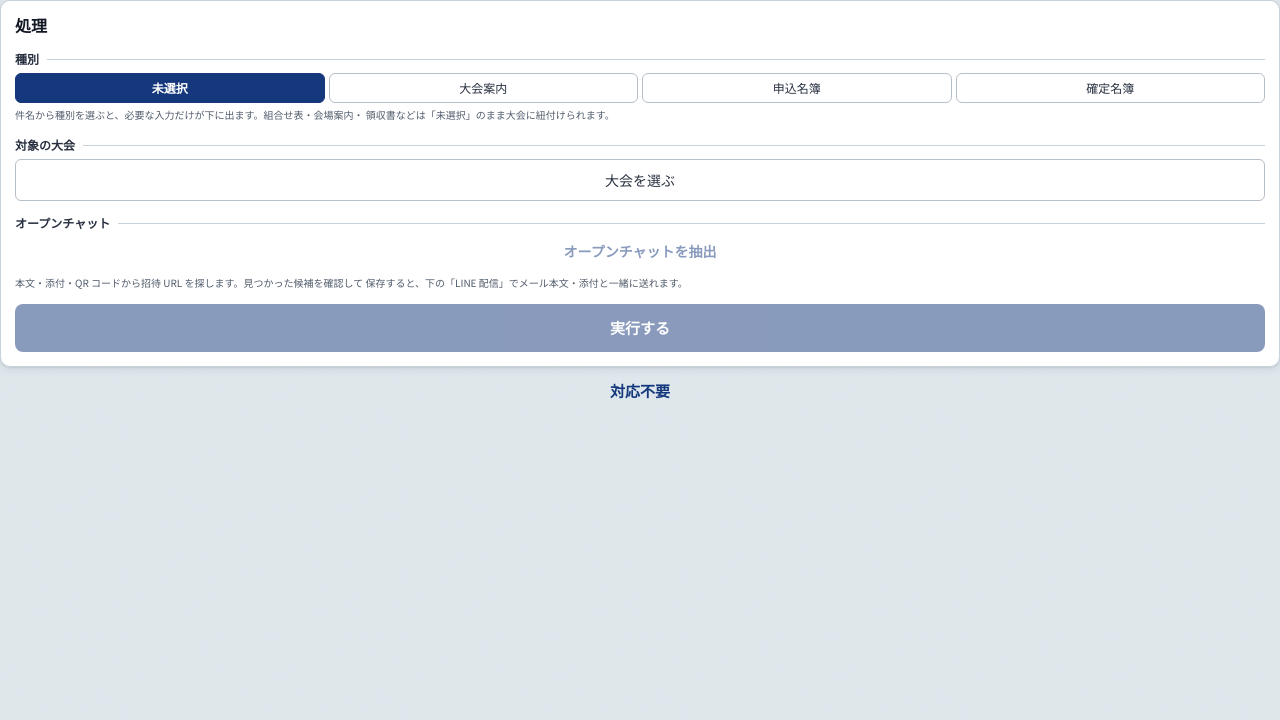
MailProcessForm — 会計へ振込連絡 › 送信済みのグループはチェックが既定 OFF で送信日時が出る（AC-41）
This screenshot has width=1280, height=720.
What coordinates should you click on to do the following:
click the button "確定名簿"
I would click on:
 (1110, 88)
Its box is [956,73,1265,103].
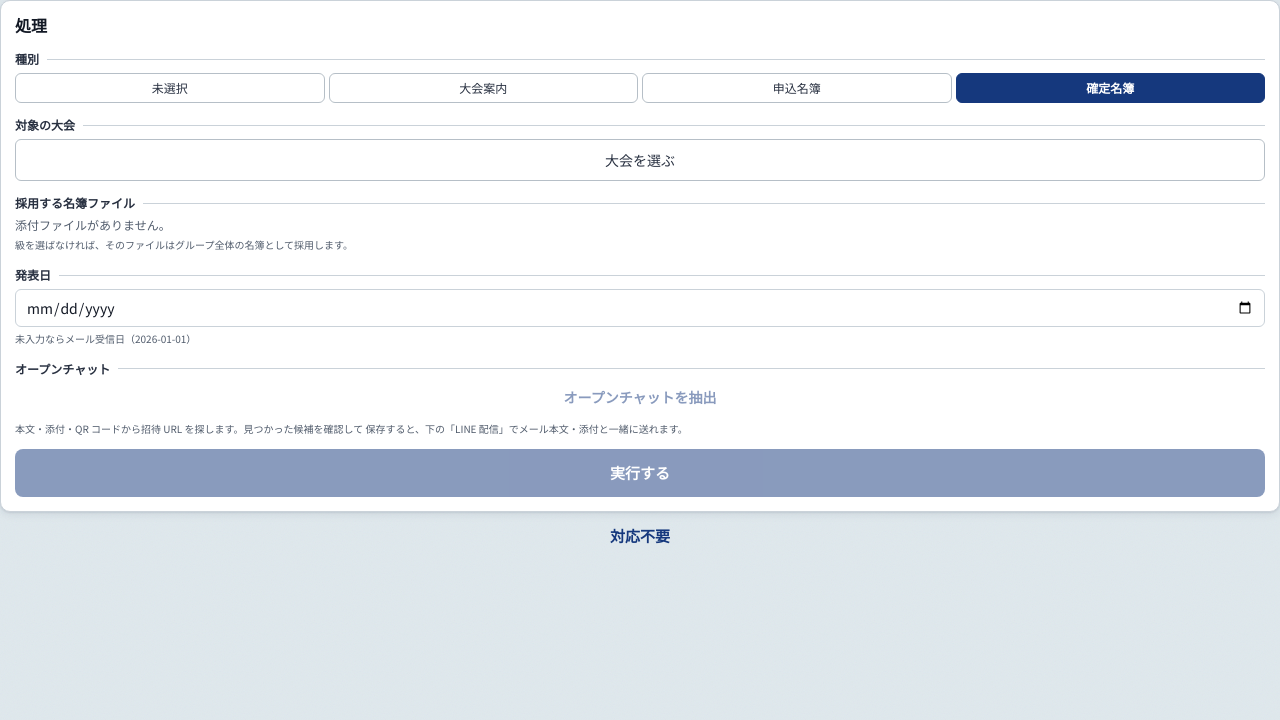
What coordinates should you click on to do the following:
click the button "大会を選ぶ"
I would click on:
 (640, 160)
Its box is [15,139,1265,181].
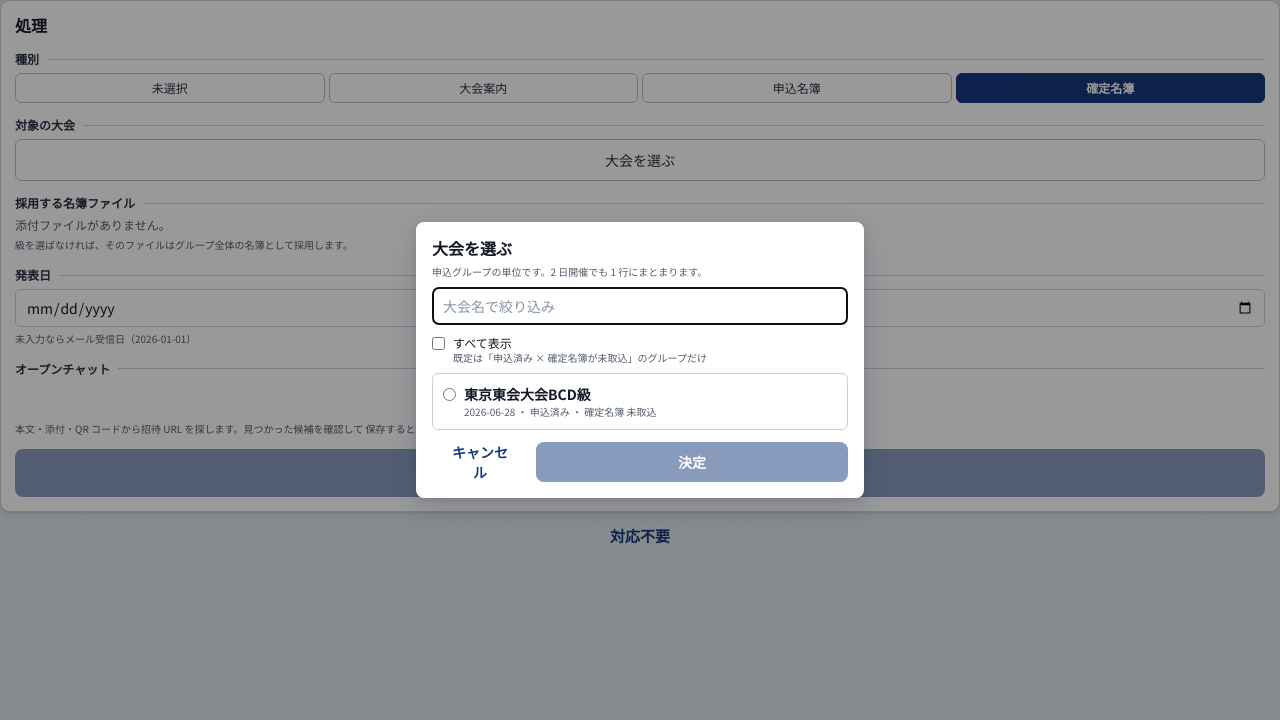
What coordinates should you click on to do the following:
click the radio button
I would click on:
 (450, 394)
Its box is [443,388,456,401].
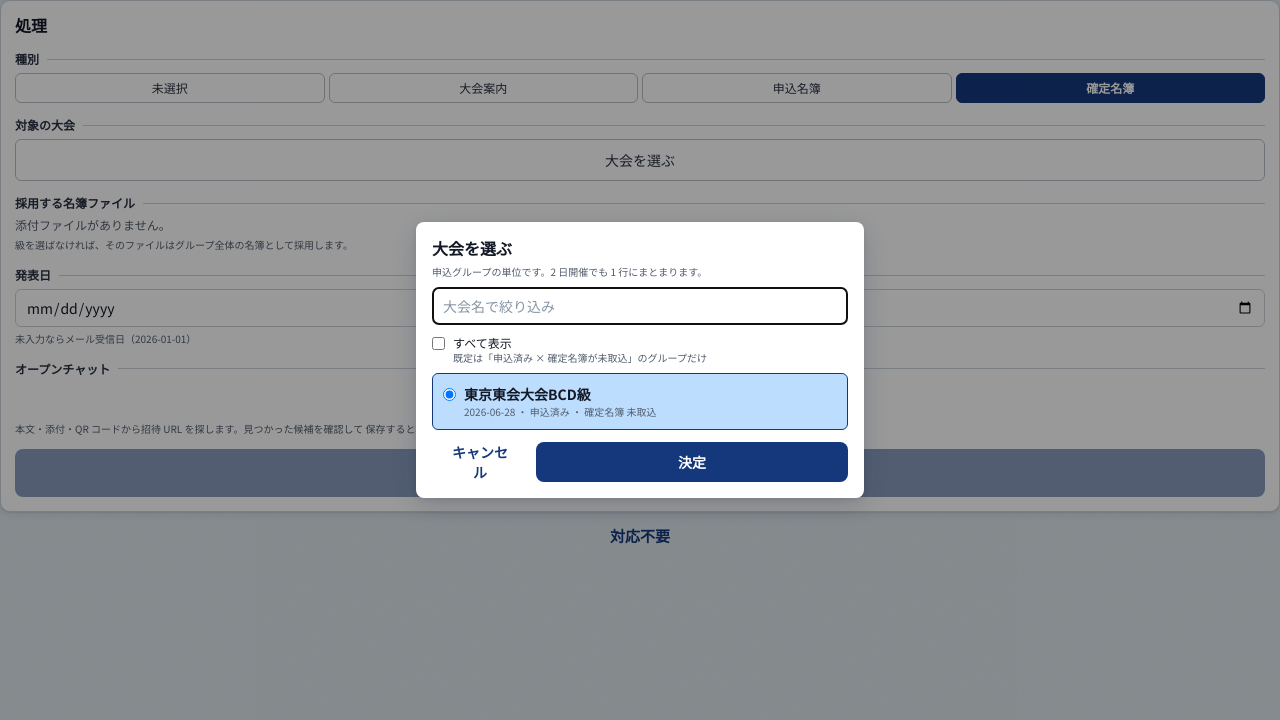
What coordinates should you click on to do the following:
click the button "決定"
I would click on:
 (692, 462)
Its box is [536,442,848,482].
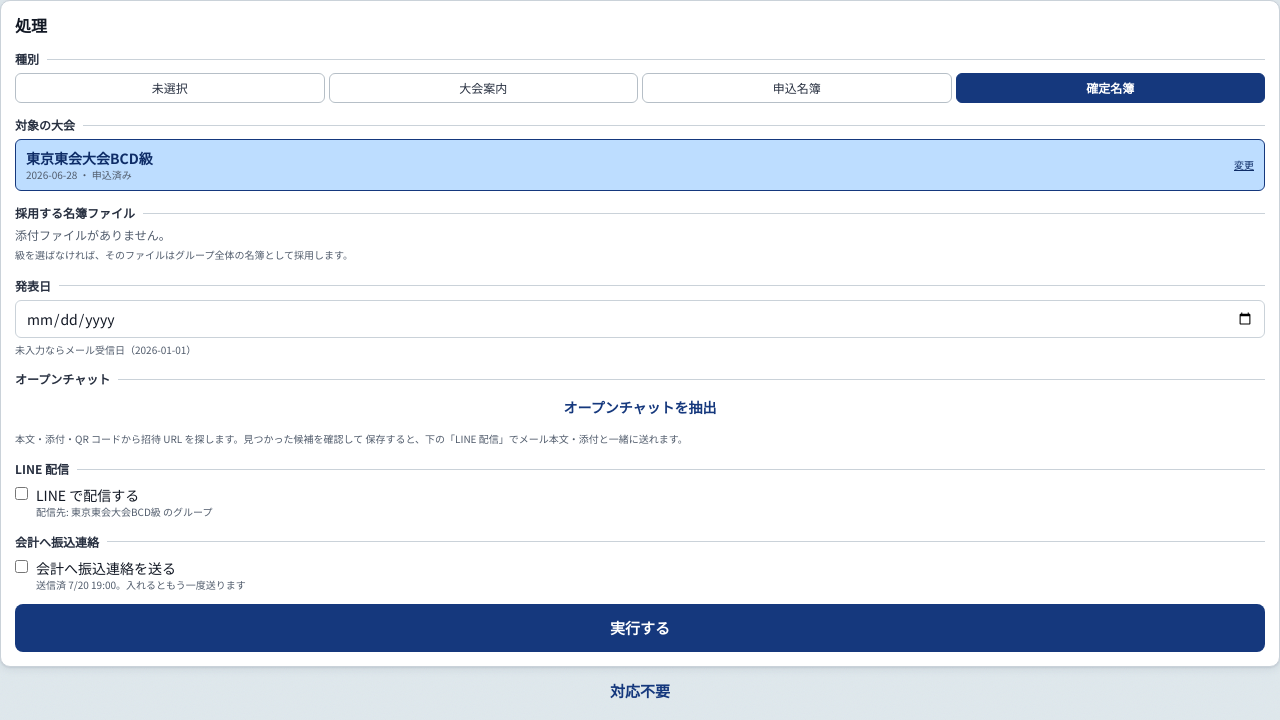
Result: the checkbox labelled "会計へ振込連絡を送る 送信済 7/20 19:00。入れるともう一度送ります" is not checked at [15,560,28,573]
Result: the text "送信済 7/20 19:00。入れるともう一度送ります" is shown at [36,577,246,592]
